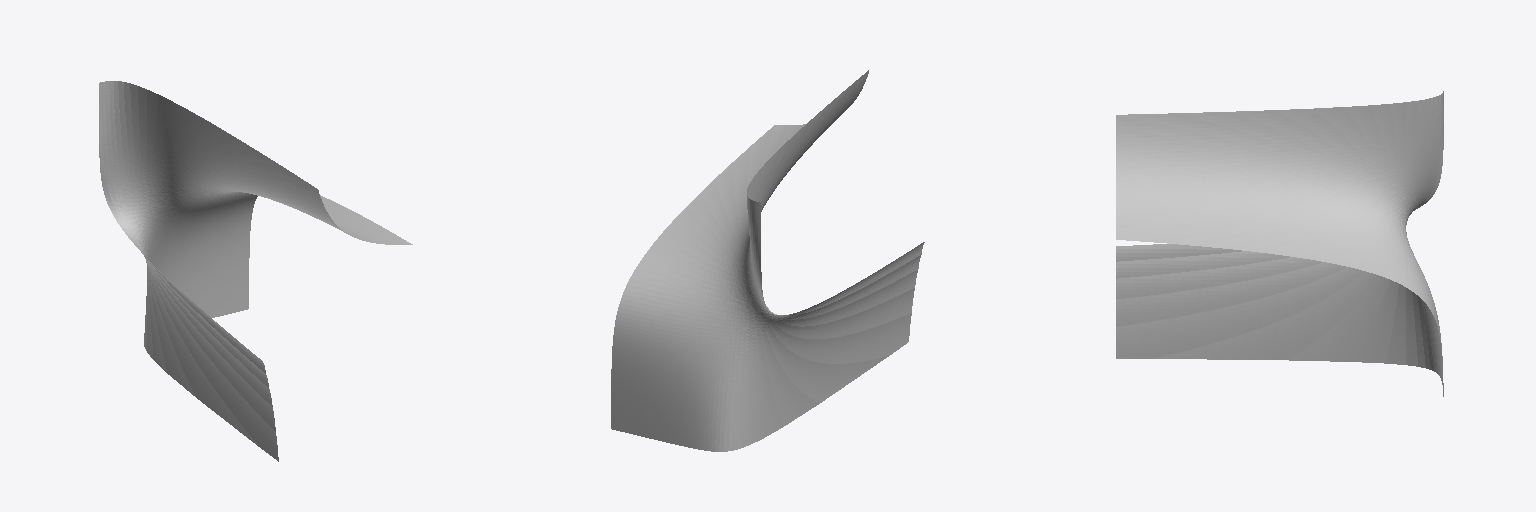
The model's file is exponential.obj.
The picture shows the model from 3 angles: view 1: azimuth 30°, elevation 25°; view 2: azimuth 150°, elevation 25°; view 3: azimuth 270°, elevation 25°; orthographic projection.
Size of the model in its own units: 4.6 by 7.7 by 8.7.